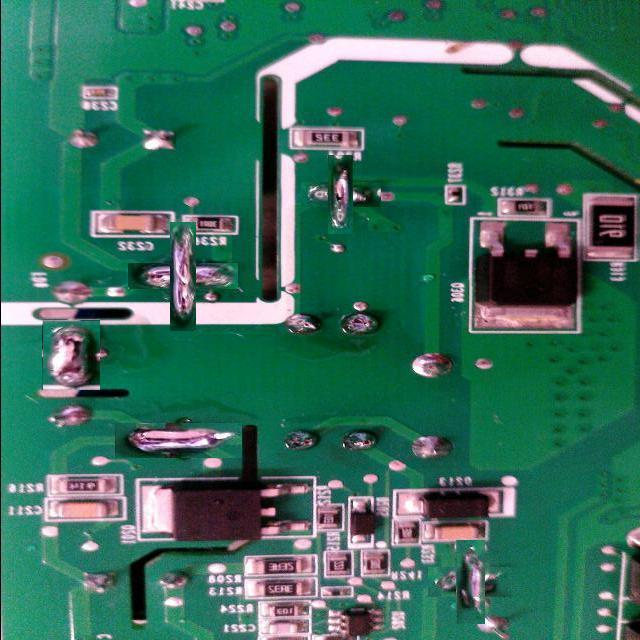Short_circuit: (149, 242, 217, 310), (114, 422, 242, 458), (42, 319, 100, 390), (441, 554, 499, 611), (315, 168, 367, 221)
